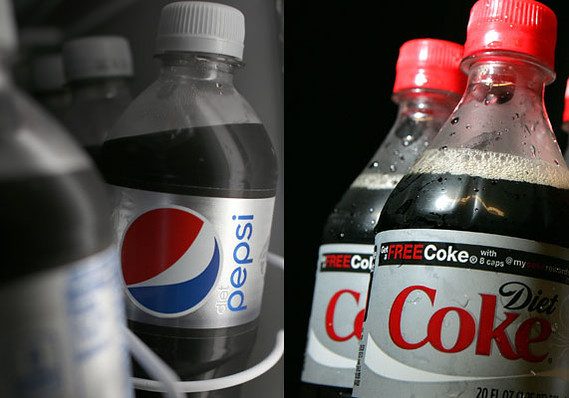pepsi: (119, 206, 221, 313)
